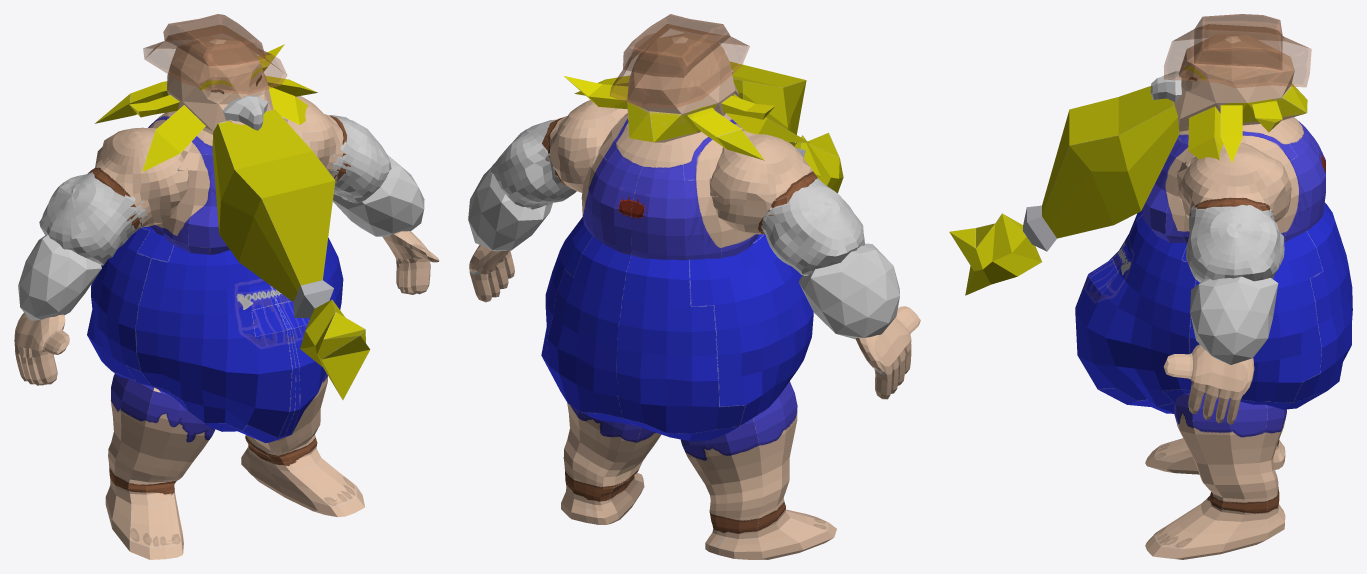
The model's file is CLEAN GRAGAS.fbx.
The picture shows the model from 3 angles, left to right: view 1: azimuth 30°, elevation 25°; view 2: azimuth 150°, elevation 25°; view 3: azimuth 270°, elevation 25°; orthographic projection. The views are drawn at different scales.
Parts seen in each view (by area): view 1: panza, brazos.001, barba.001, piernas, cabeza, sombrero, manos, pectoral, nariz; view 2: panza, brazos.001, piernas, pectoral, cabeza, sombrero, manos, barba.001; view 3: panza, barba.001, brazos.001, piernas, cabeza, sombrero, pectoral, manos, nariz.
Part boxes in pixels (x1,y1,x2,y2): panza: [87, 226, 343, 443]; brazos.001: [18, 96, 424, 320]; barba.001: [212, 109, 370, 399]; piernas: [105, 373, 364, 559]; cabeza: [94, 36, 317, 172]; sombrero: [143, 14, 287, 93]; manos: [14, 231, 439, 385]; pectoral: [148, 111, 229, 254]; nariz: [223, 95, 268, 130]; panza: [541, 217, 813, 440]; brazos.001: [468, 100, 899, 339]; piernas: [561, 381, 836, 559]; pectoral: [581, 113, 759, 260]; cabeza: [564, 33, 809, 160]; sombrero: [610, 14, 749, 107]; manos: [469, 245, 920, 399]; barba.001: [729, 61, 843, 193]; panza: [1075, 202, 1352, 413]; barba.001: [949, 86, 1179, 295]; brazos.001: [1177, 143, 1291, 364]; piernas: [1145, 393, 1286, 559]; cabeza: [1174, 35, 1307, 163]; sombrero: [1164, 14, 1311, 87]; pectoral: [1142, 117, 1325, 243]; manos: [1163, 344, 1254, 424]; nariz: [1150, 71, 1181, 102].
Size of the model in its own units: 276 by 317 by 241.
